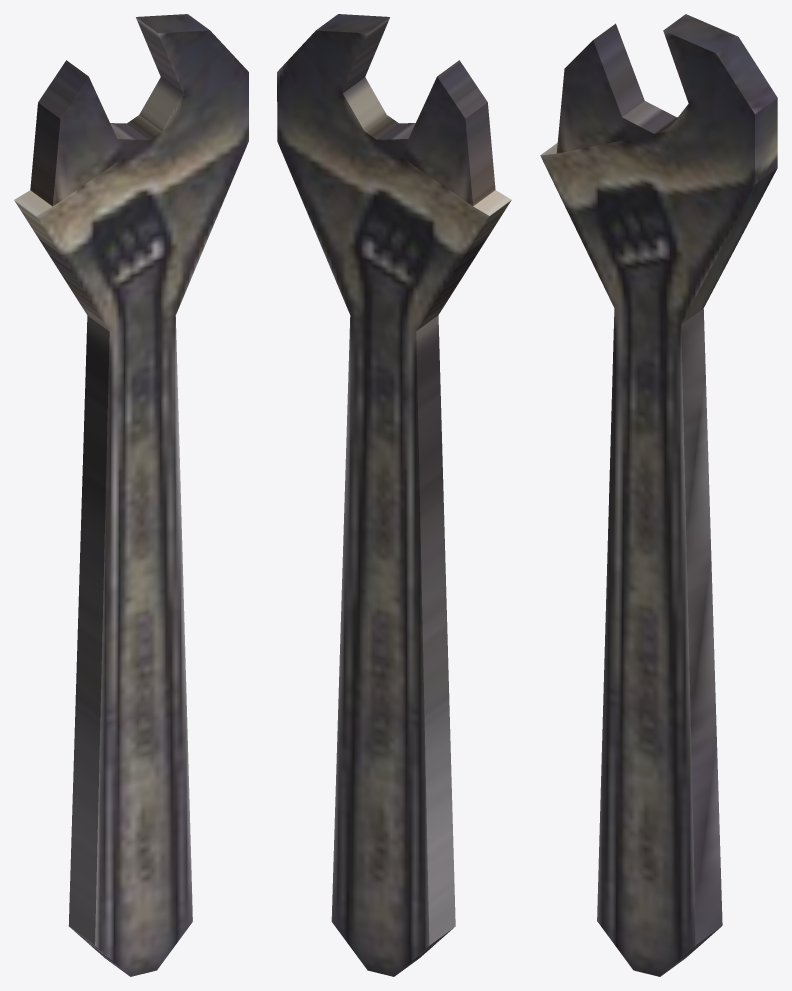
3 views of the same model, side by side, from view 1: azimuth 30°, elevation 25°; view 2: azimuth 150°, elevation 25°; view 3: azimuth 330°, elevation 25° (orthographic).
Parts seen in each view (by area): view 1: AWrench; view 2: AWrench; view 3: AWrench.
Boxes of the visible parts, x1,y1,x2,y2 form: AWrench: [14, 14, 248, 976]; AWrench: [277, 14, 511, 976]; AWrench: [540, 14, 777, 976].
Size of the model in its own units: 0.7818 by 3.29 by 0.1674.
Materials: 1 (1 with a texture image).
